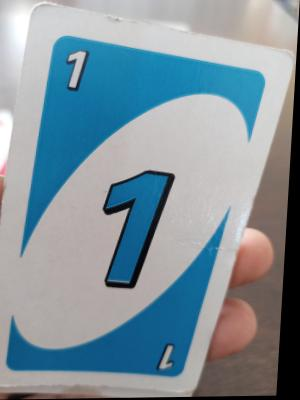blue: (28, 37, 216, 379)
num_1: (50, 38, 103, 98), (153, 335, 187, 373)
